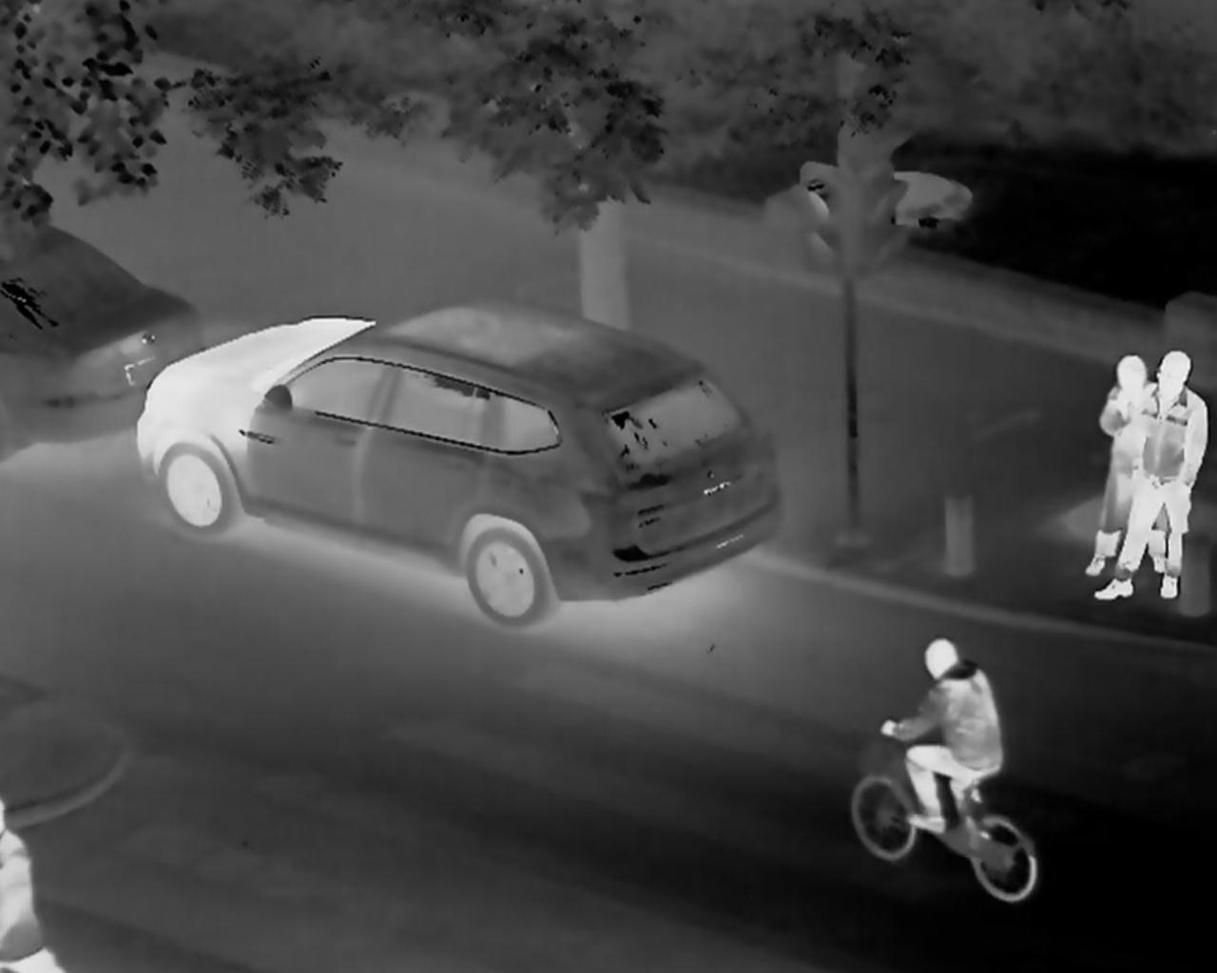person: (891, 624, 1022, 848), (1138, 354, 1202, 624), (1077, 351, 1135, 552)
